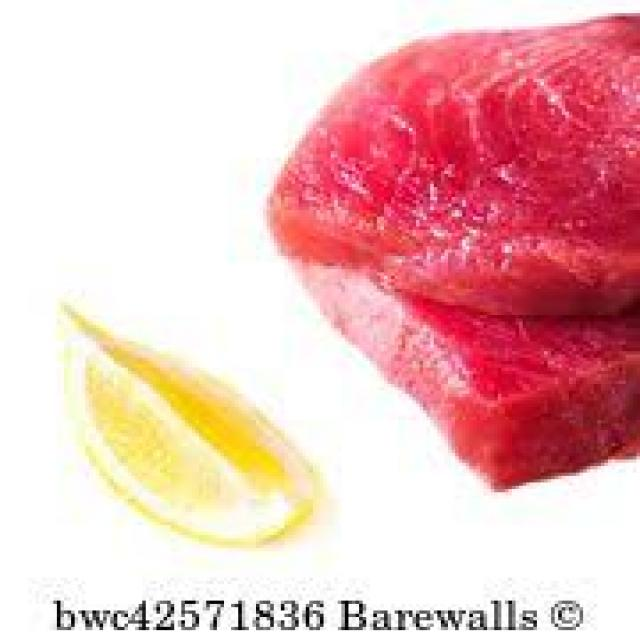lemon: (49, 301, 327, 550)
tuna: (283, 23, 640, 294)
